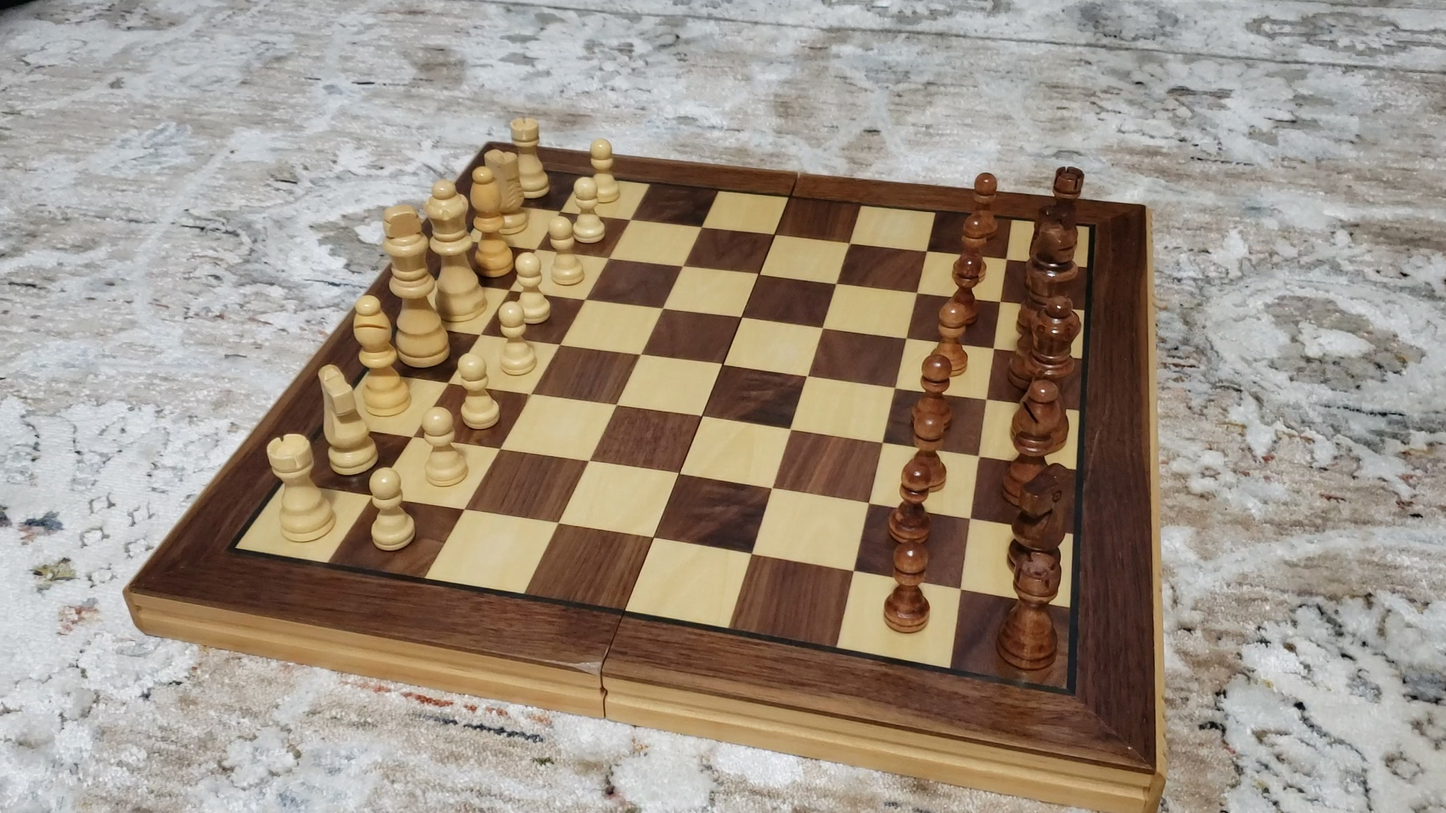black-bishop: (997, 378, 1073, 512)
black-knight: (993, 460, 1088, 580)
black-pawn: (878, 536, 938, 640), (882, 455, 937, 547), (903, 410, 952, 497), (928, 297, 974, 384), (911, 352, 956, 437), (942, 252, 989, 328), (949, 210, 992, 286), (962, 167, 1001, 245)
black-queen: (1024, 294, 1088, 389)
black-rook: (985, 550, 1081, 676), (1043, 158, 1091, 208)
white-bishop: (345, 293, 415, 422), (459, 167, 518, 279)
white-king: (373, 202, 454, 375)
white-knight: (308, 358, 382, 481), (476, 147, 535, 237)
white-pawn: (361, 466, 427, 558), (488, 294, 546, 378), (507, 246, 560, 327), (422, 404, 468, 486), (543, 214, 588, 290), (457, 351, 499, 432), (567, 174, 608, 247), (582, 137, 626, 205)
white-queen: (421, 179, 490, 326)
white-rook: (251, 421, 339, 549), (500, 115, 558, 202)
